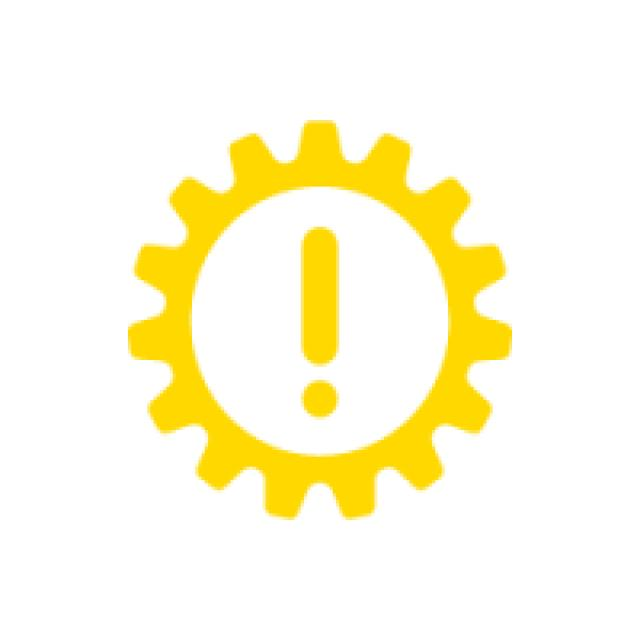kontrolka: (126, 103, 521, 534)
